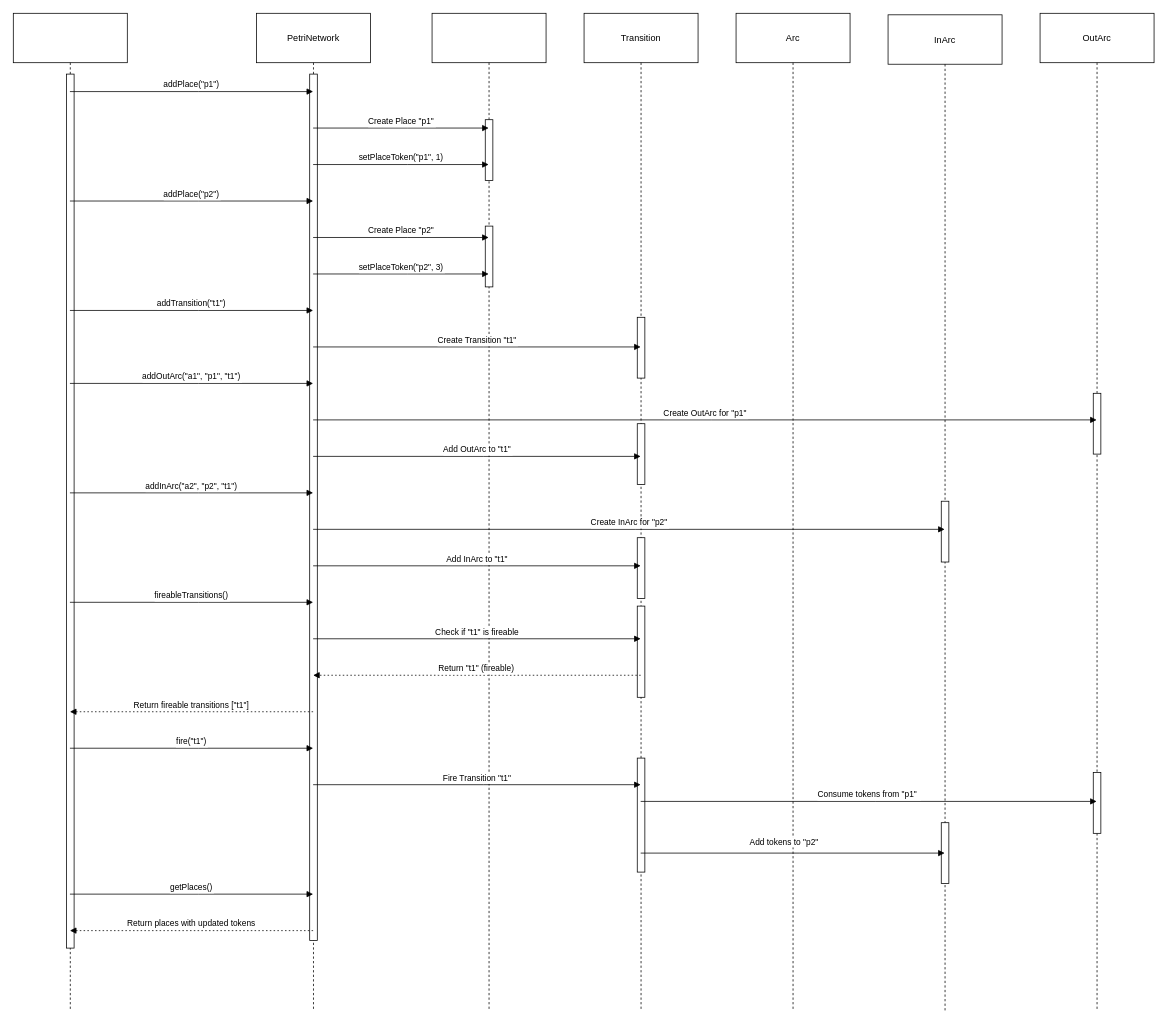
Image size: 1167x1025. Some labels were removed from this diagram. Each missing label, with the box of its shape:
Dashboard: (13, 13, 127, 1010)
Place: (431, 13, 546, 1010)
